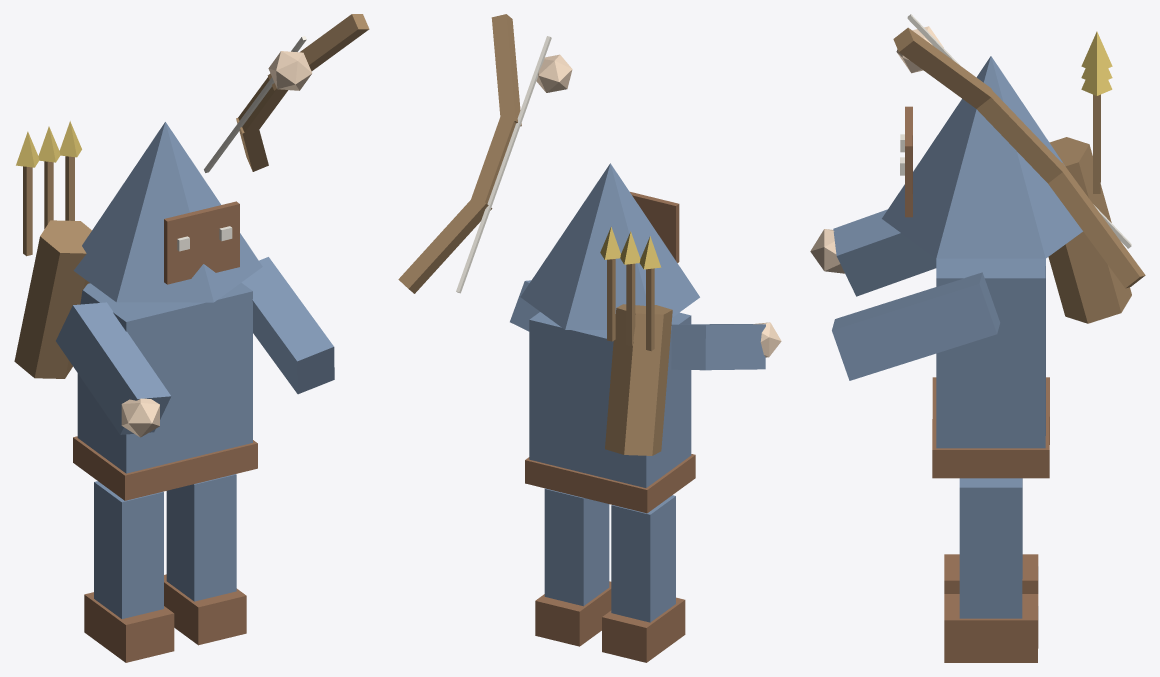
Rendered from npcpose_archer_attack_07.glb.
3 renders of one model, left to right at view 1: azimuth 30°, elevation 25°; view 2: azimuth 150°, elevation 25°; view 3: azimuth 270°, elevation 25°, orthographic. The views are drawn at different scales.
Visible parts, largest first — view 1: npcpose; view 2: npcpose; view 3: npcpose.
Boxes of the visible parts, left/top/right/bottom form: npcpose: left=14, top=14, right=369, bottom=662; npcpose: left=398, top=14, right=781, bottom=662; npcpose: left=810, top=14, right=1145, bottom=662.
Bounding box in the file's own units: 0.9105 × 1.93 × 0.8578.
